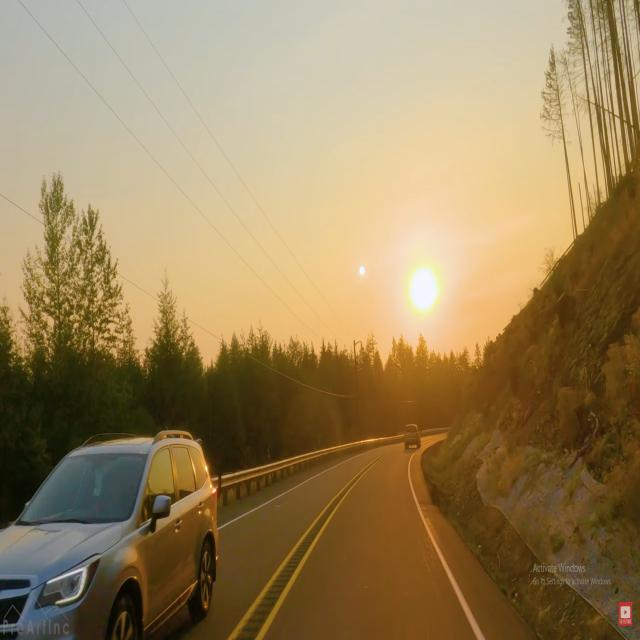sun: (394, 251, 454, 331)
